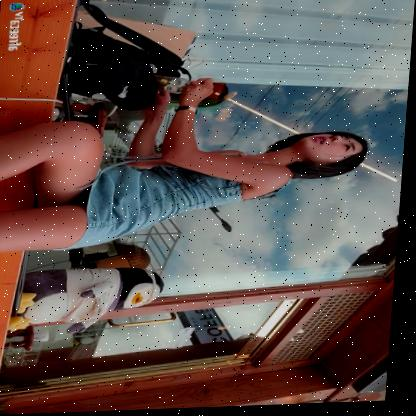streamer: (0, 74, 375, 254)
